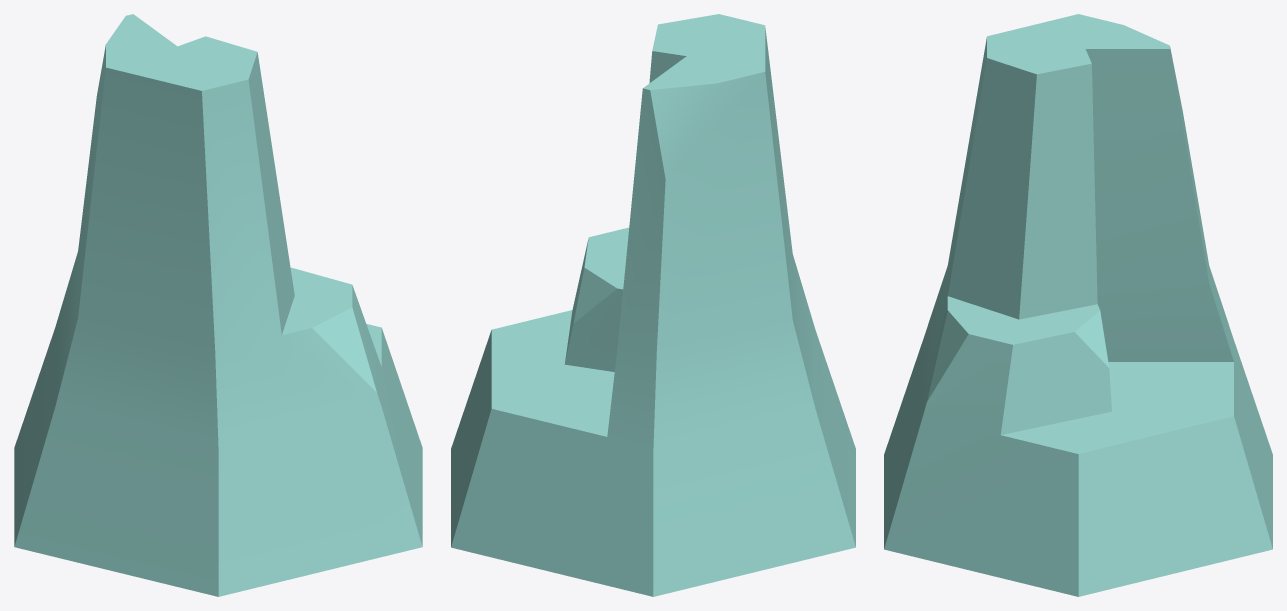
Rendered from rock_tall8.fbx.
3 renders of one model, left to right at view 1: azimuth 30°, elevation 25°; view 2: azimuth 150°, elevation 25°; view 3: azimuth 270°, elevation 25°, orthographic. The views are drawn at different scales.
Visible parts, largest first — view 1: rock_tall8; view 2: rock_tall8; view 3: rock_tall8.
Boxes of the visible parts, left/top/right/bottom form: rock_tall8: left=14, top=14, right=422, bottom=596; rock_tall8: left=451, top=14, right=855, bottom=596; rock_tall8: left=884, top=14, right=1272, bottom=596.
Size of the model in its own units: 199 by 213 by 172.
